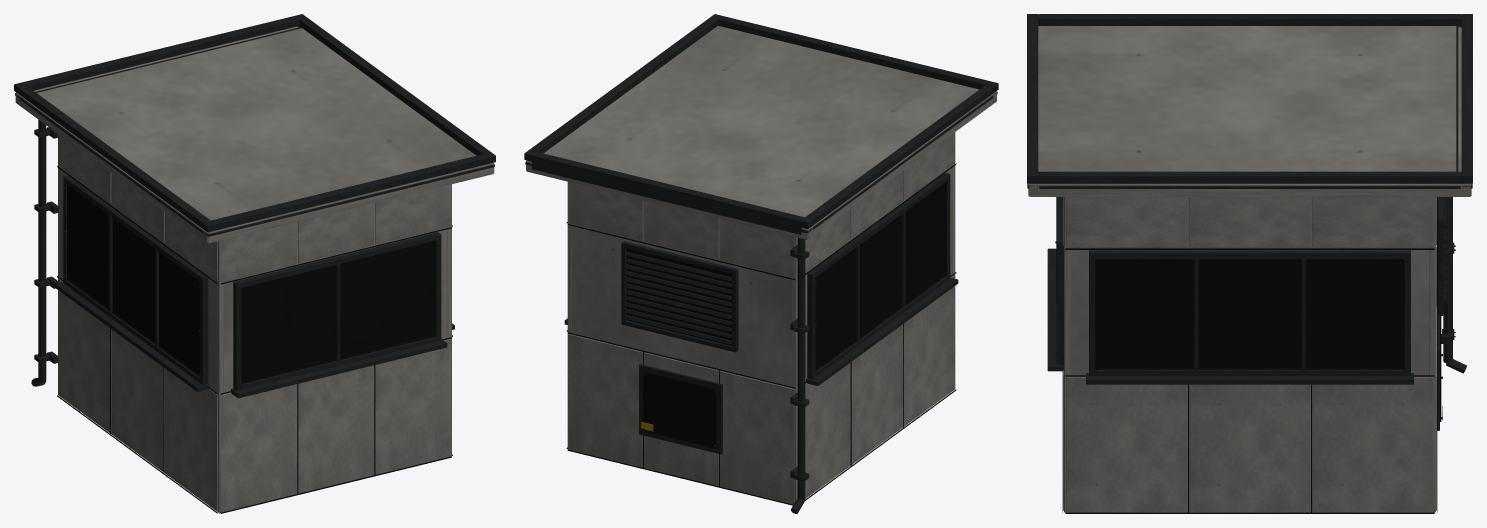
The model's file is CitySecurityBooth.fbx.
3 views of the same model, side by side, from view 1: azimuth 30°, elevation 25°; view 2: azimuth 150°, elevation 25°; view 3: azimuth 270°, elevation 25° (orthographic). The views are drawn at different scales.
Parts seen in each view (by area): view 1: SecurityBoothShell.001; view 2: SecurityBoothShell.001; view 3: SecurityBoothShell.001.
Part boxes in pixels (bbox=[...]): SecurityBoothShell.001: bbox=[14, 14, 495, 513]; SecurityBoothShell.001: bbox=[524, 14, 998, 513]; SecurityBoothShell.001: bbox=[1027, 14, 1472, 513].
Size of the model in its own units: 3.1 by 3.15 by 3.6.
